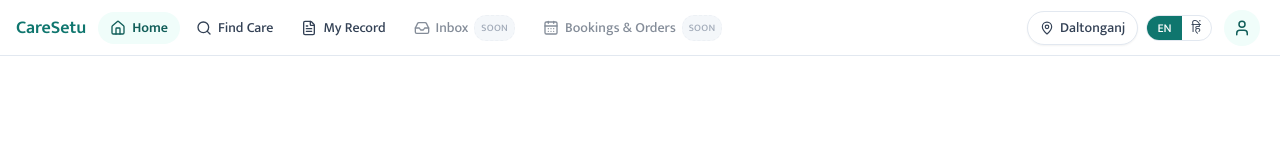
Test: Topbar account cluster › language toggle flips nav labels through the i18n engine
Expected: the element with test id "lang-toggle" is shown, [1146,14,1212,40]
Expected: the link with test id "nav-home" reads "Home", [98,12,180,44]
Click the button "हिं" at x=1196, y=28, box [1182,16,1211,40]
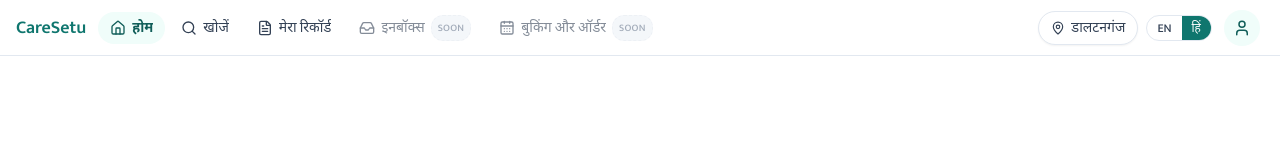
Expected: the link with test id "nav-home" reads "होम", [98,12,165,44]
